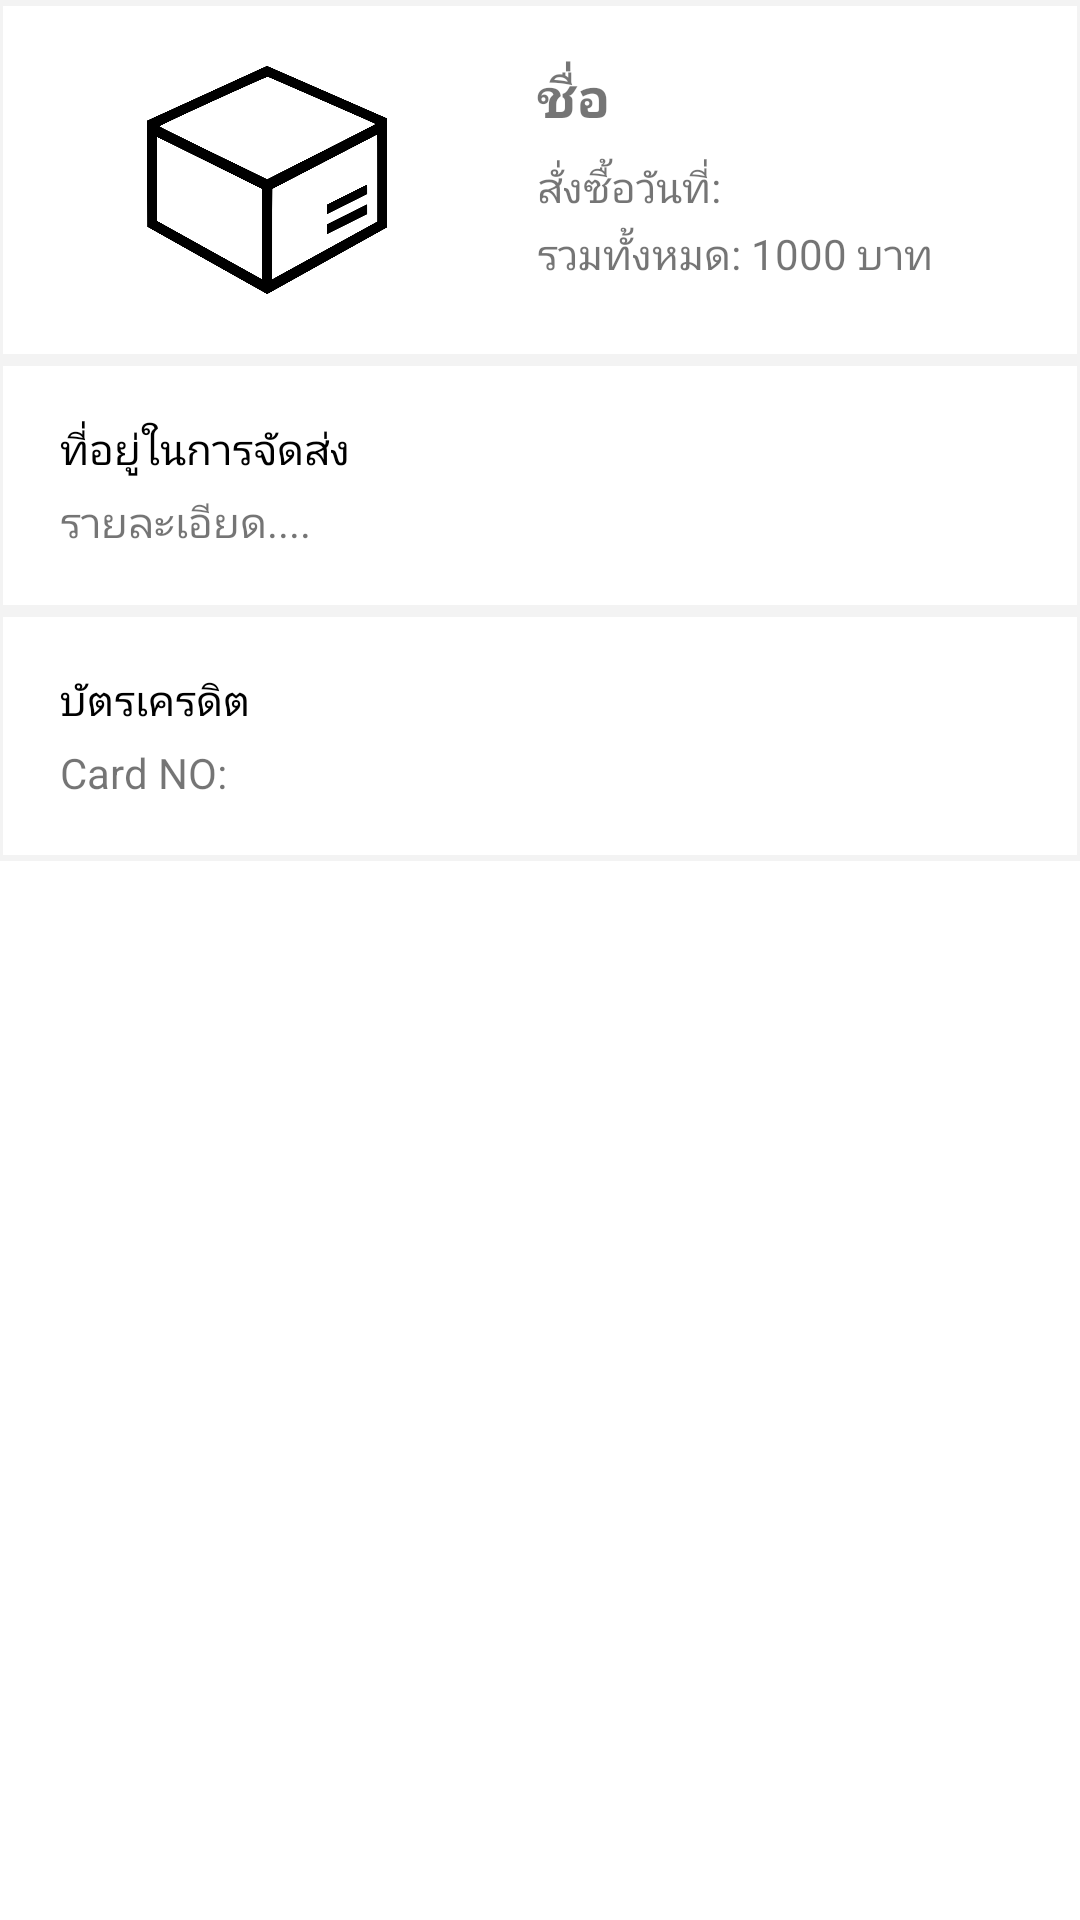

Locate icon controls on the screen. Image size 1080w x 1920h, boxes as (x1, y1, x2, y2).
boxpng: (147, 66, 387, 294)
